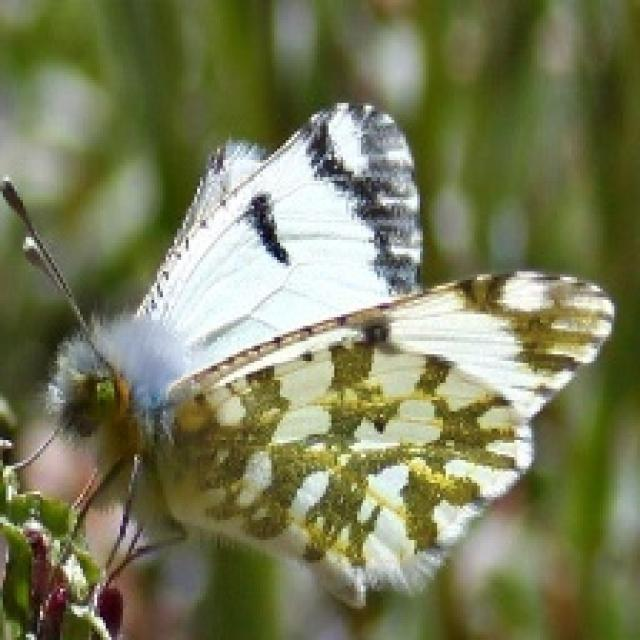butterfly: (0, 97, 614, 617)
